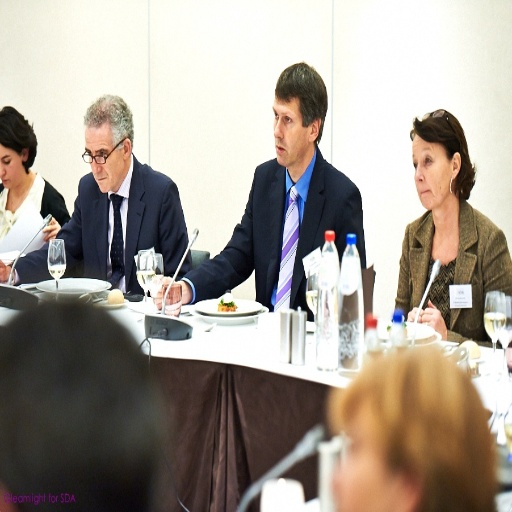hand: (147, 269, 195, 305), (421, 299, 446, 338), (40, 213, 60, 241), (405, 308, 424, 332), (0, 258, 8, 281)
